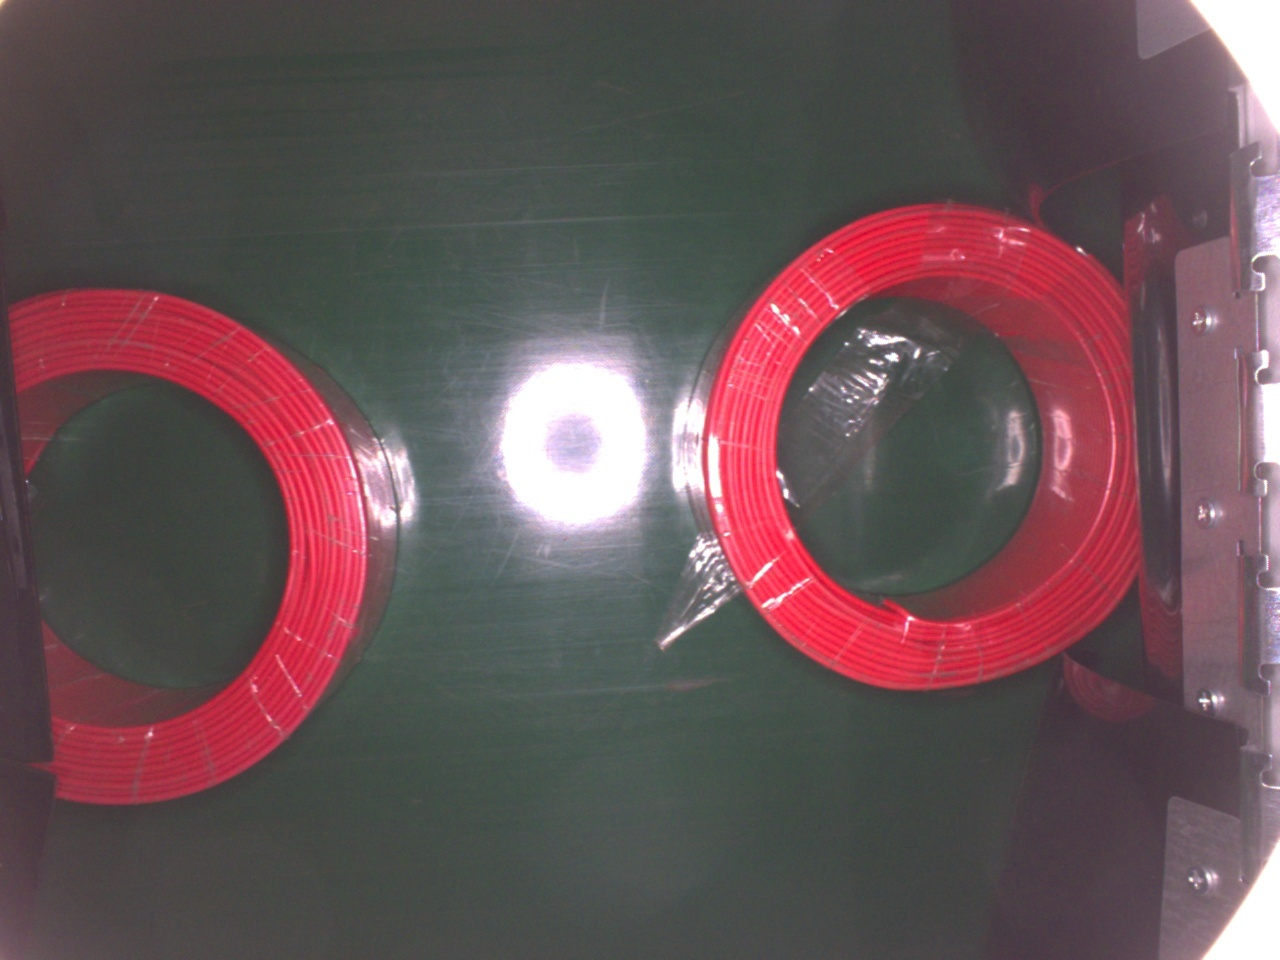red: (676, 202, 1144, 691), (8, 284, 402, 813)
